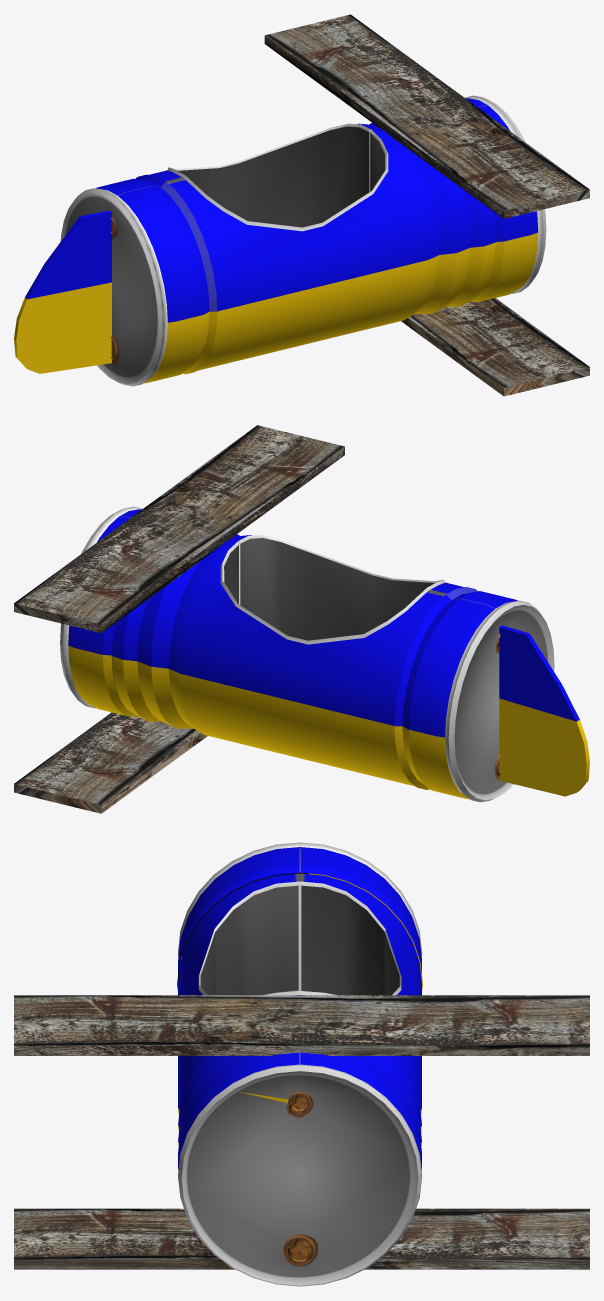
File: potuznolit_source.glb
The picture shows the model from 3 angles, top to bottom: view 1: azimuth 30°, elevation 25°; view 2: azimuth 150°, elevation 25°; view 3: azimuth 270°, elevation 25°; orthographic projection. The views are drawn at different scales.
Parts seen in each view (by area): view 1: kuZOV; view 2: kuZOV; view 3: kuZOV.
Boxes of the visible parts, x1=… form: kuZOV: x1=14, y1=14, x2=589, y2=396; kuZOV: x1=14, y1=425, x2=589, y2=813; kuZOV: x1=14, y1=842, x2=589, y2=1286.
Size of the model in its own units: 0.4068 by 0.1551 by 0.354.
Materials: 2 (2 with a texture image).
